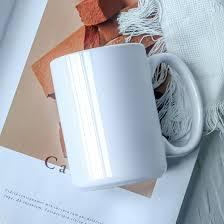cup: (51, 44, 202, 188)
